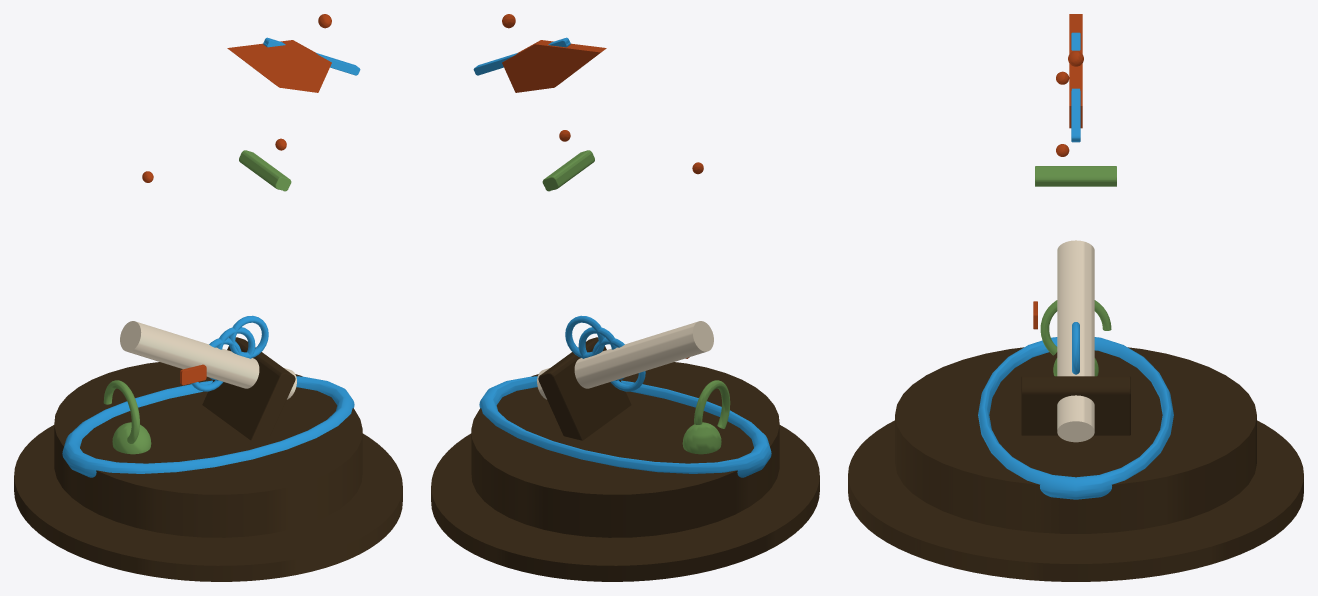
File: 0217_生活中的物理图鉴_凸面镜.glb
3 views of the same model, side by side, from view 1: azimuth 30°, elevation 25°; view 2: azimuth 150°, elevation 25°; view 3: azimuth 270°, elevation 25° (orthographic). The views are drawn at different scales.
Parts seen in each view (by area): view 1: card_0217; view 2: card_0217; view 3: card_0217.
Boxes of the visible parts, bbox=[...] form: card_0217: bbox=[14, 14, 402, 581]; card_0217: bbox=[431, 14, 819, 581]; card_0217: bbox=[848, 14, 1303, 581].
Bounding box in the file's own units: 0.7494 × 1 × 0.8073.
